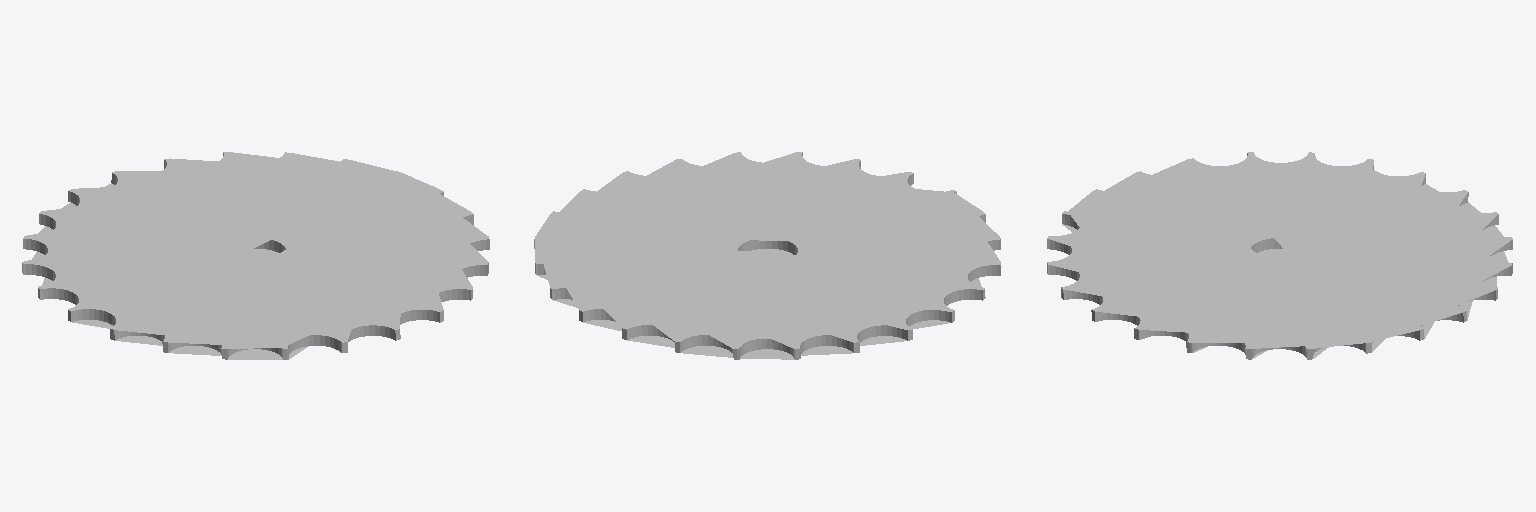
Rendered from Saw-blade.obj.
The picture shows the model from 3 angles: view 1: azimuth 30°, elevation 25°; view 2: azimuth 150°, elevation 25°; view 3: azimuth 270°, elevation 25°; orthographic projection.
Visible parts, largest first — view 1: Zaag_blade; view 2: Zaag_blade; view 3: Zaag_blade.
Part boxes in pixels (bbox=[...]): Zaag_blade: bbox=[22, 152, 489, 359]; Zaag_blade: bbox=[534, 152, 1000, 359]; Zaag_blade: bbox=[1047, 152, 1512, 359].
Size of the model in its own units: 38.54 by 0.972 by 38.54.